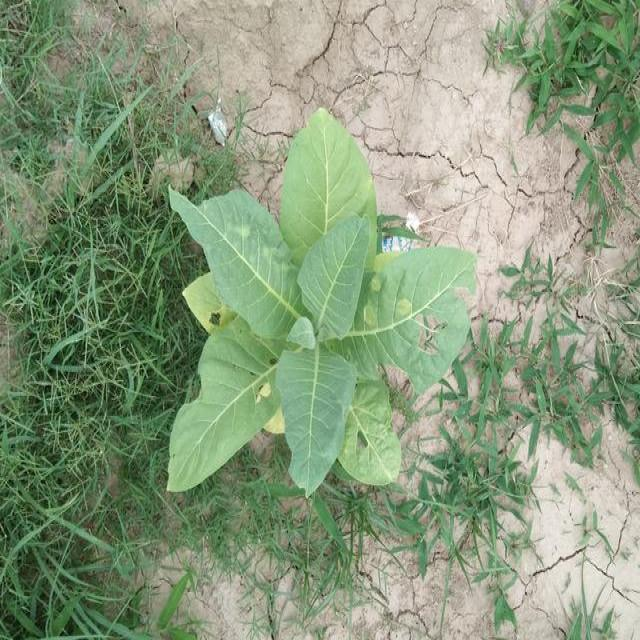crop: (163, 108, 482, 513)
